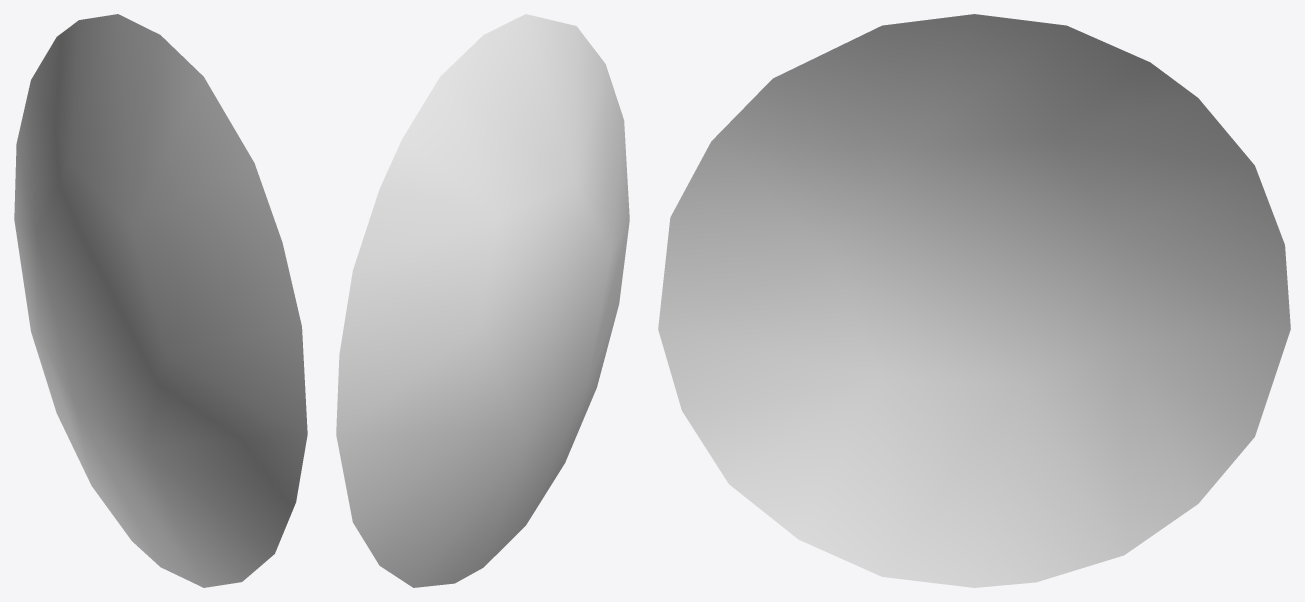
3 renders of one model, left to right at view 1: azimuth 30°, elevation 25°; view 2: azimuth 150°, elevation 25°; view 3: azimuth 270°, elevation 25°, orthographic. The views are drawn at different scales.
Size of the model in its own units: 0.0317 by 0.2531 by 0.2528.
Materials: 1 (1 with a texture image).
